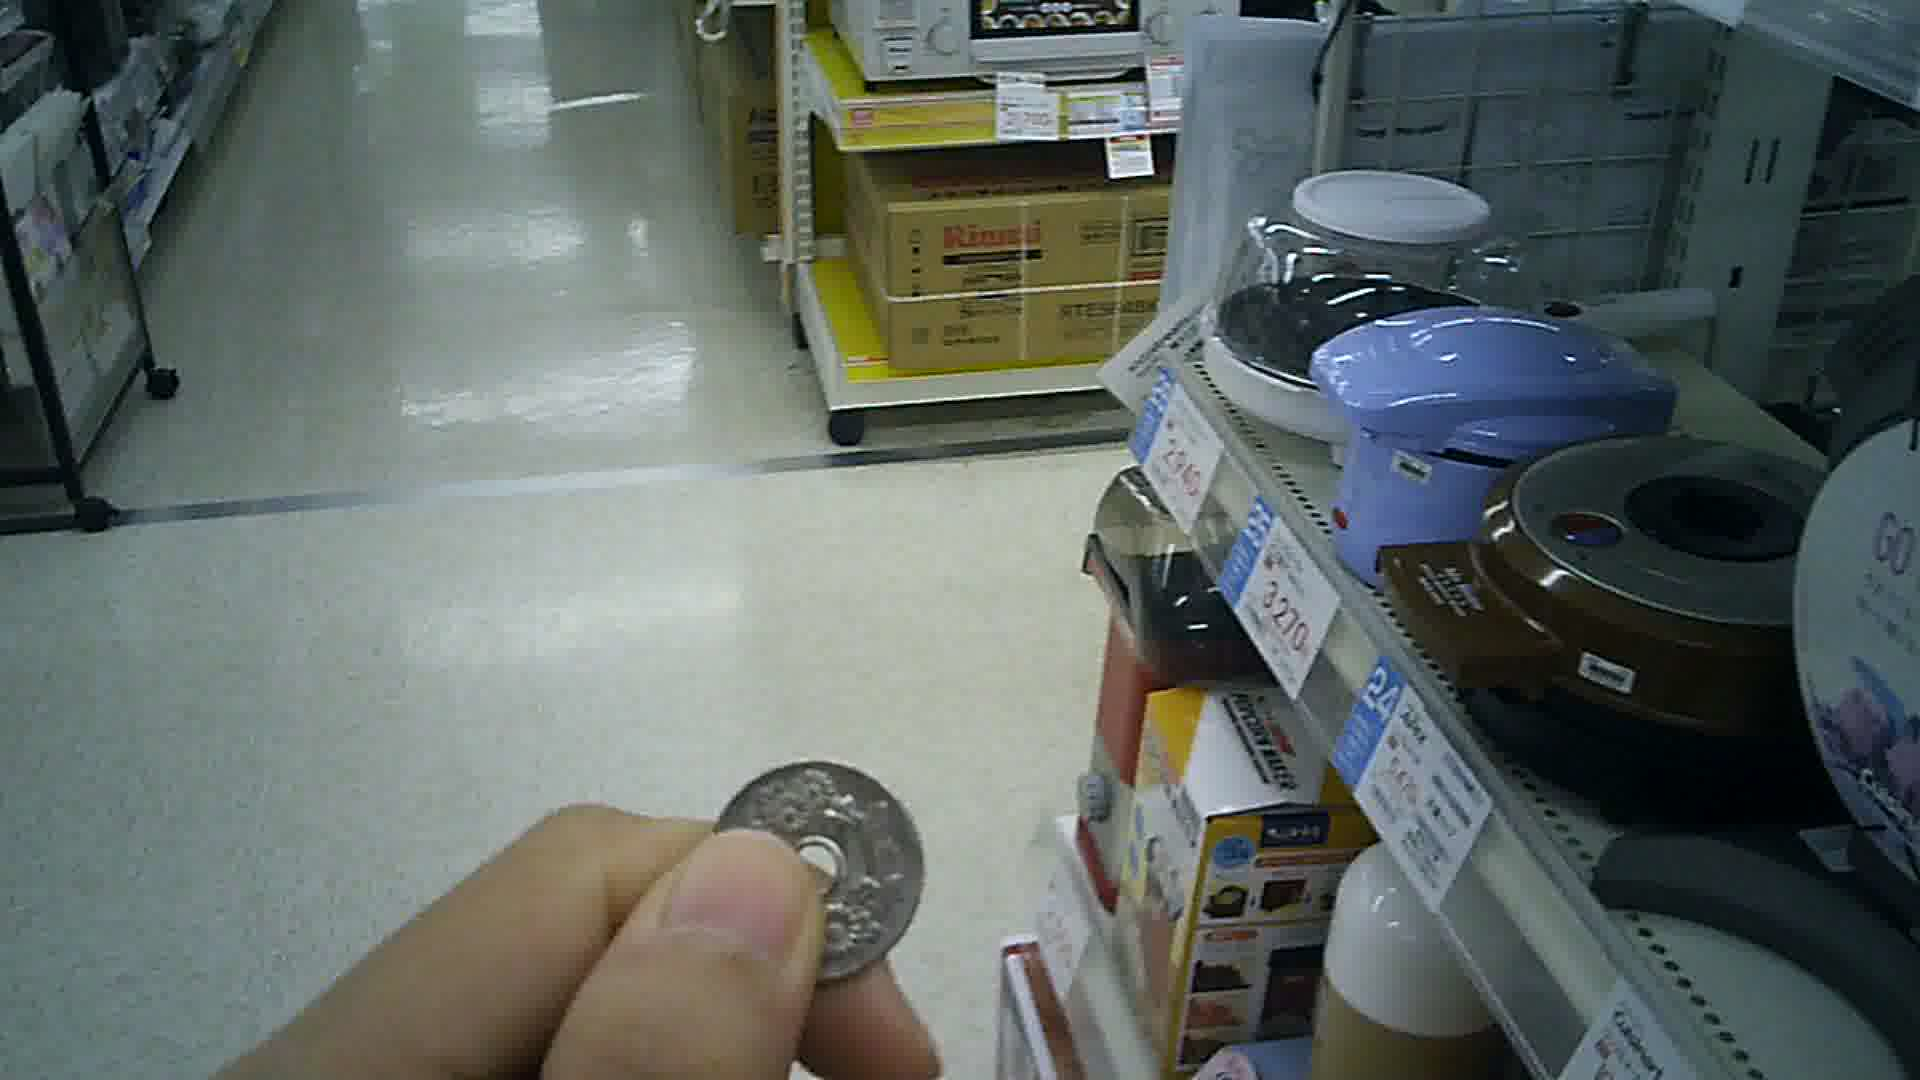50 Yen: (702, 752, 930, 996)
